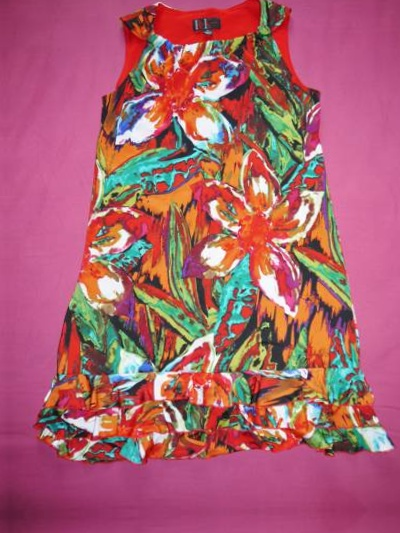Dress: (39, 0, 400, 485)
